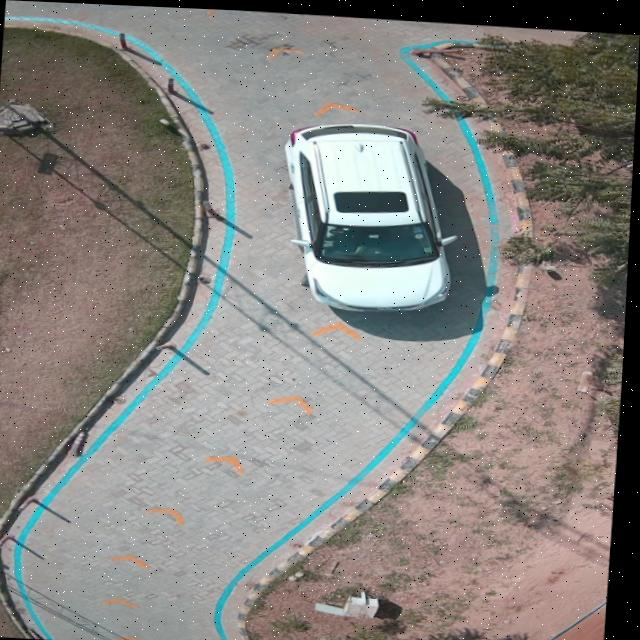car: (286, 118, 455, 306)
